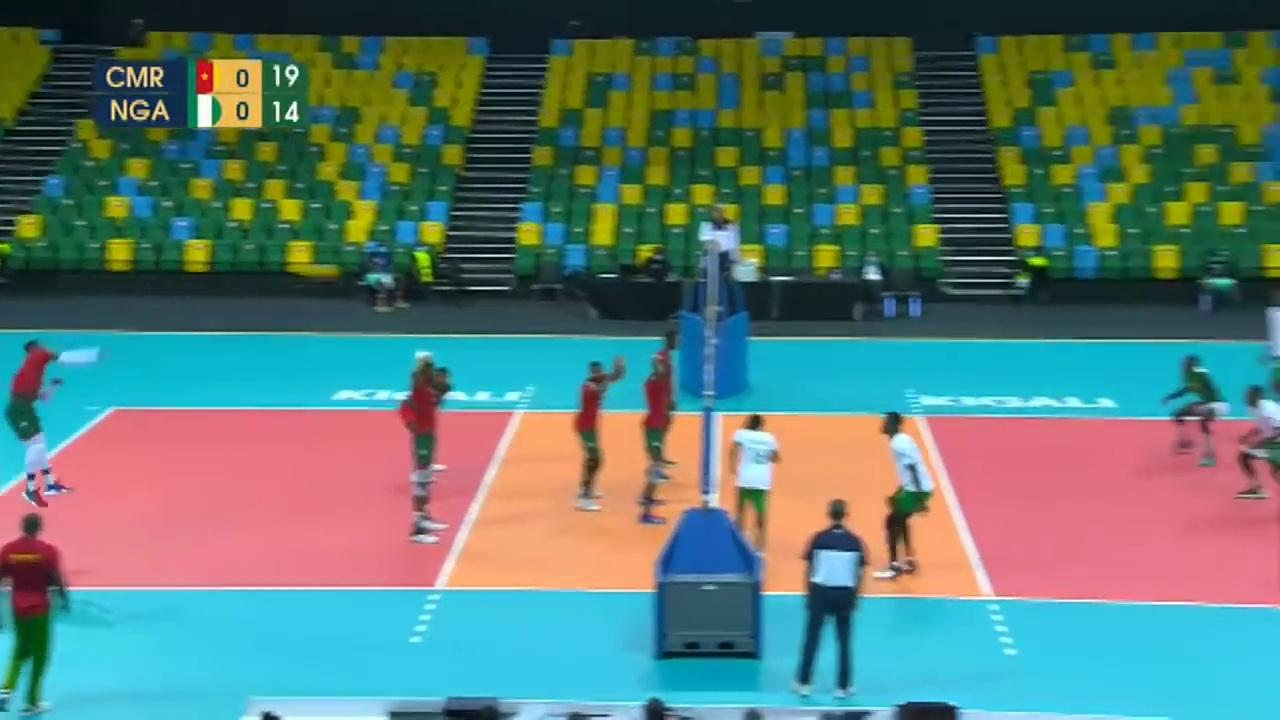player: (870, 409, 939, 584), (5, 341, 72, 497), (569, 351, 624, 514), (730, 406, 787, 554), (388, 366, 456, 474), (1164, 348, 1226, 466), (414, 355, 449, 540), (638, 351, 671, 535), (1235, 388, 1278, 500), (655, 326, 686, 475)
refree: (795, 497, 869, 702), (698, 201, 740, 304)
